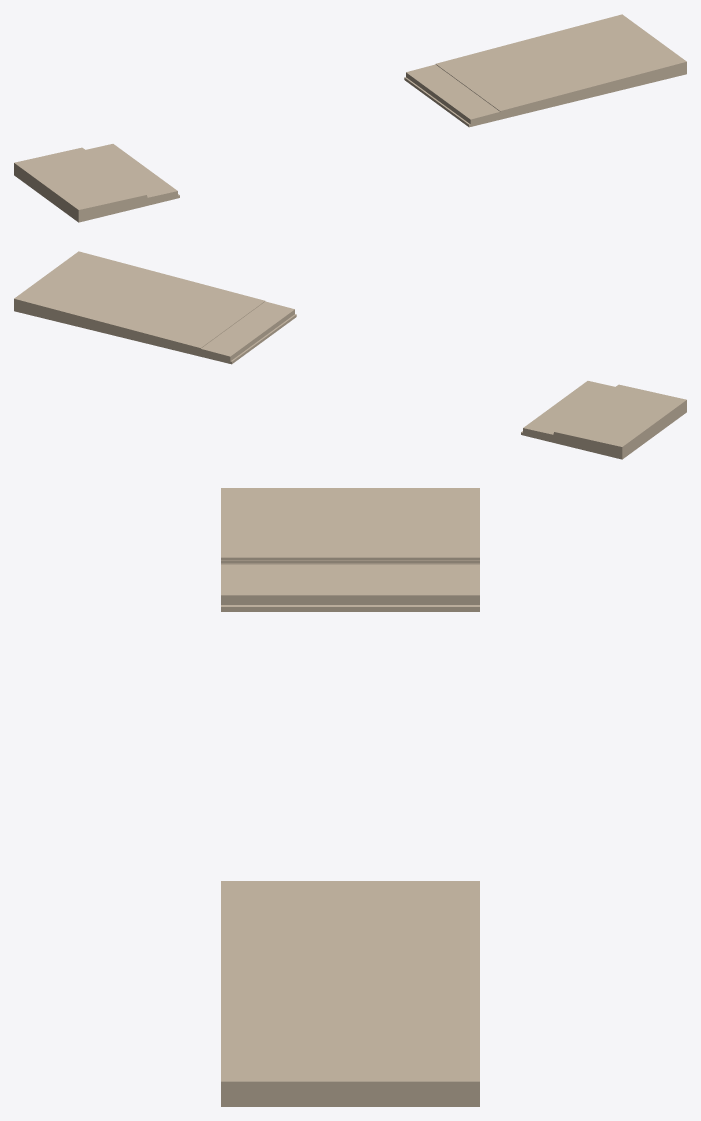
The model's file is radiator_pitch_shims.glb.
3 renders of one model, top to bottom at view 1: azimuth 30°, elevation 25°; view 2: azimuth 150°, elevation 25°; view 3: azimuth 270°, elevation 25°, orthographic. The views are drawn at different scales.
Parts seen in each view (by area): view 1: Shim_10_minus1_supply, Shim_8_1_far, Shim_10_1_far, Shim_9_1_far, Shim_7_1_far, Shim_7_minus1_supply, Shim_7_0.35_far, Shim_9_minus1_supply, Shim_10_0.35_far; view 2: Shim_10_minus1_supply, Shim_10_1_far, Shim_8_1_far, Shim_9_1_far, Shim_7_1_far, Shim_7_minus1_supply, Shim_7_0.35_far, Shim_8_minus1_supply; view 3: Shim_10_1_far, Shim_10_minus1_supply, Shim_8_1_far, Shim_9_1_far, Shim_7_minus1_supply, Shim_7_1_far, Shim_7_minus0.35_supply.
Boxes of the visible parts, left/top/right/bottom form: Shim_10_minus1_supply: left=14, top=147, right=146, bottom=222; Shim_8_1_far: left=435, top=45, right=568, bottom=119; Shim_10_1_far: left=555, top=14, right=686, bottom=86; Shim_9_1_far: left=496, top=30, right=621, bottom=102; Shim_7_1_far: left=406, top=64, right=500, bottom=126; Shim_7_minus1_supply: left=86, top=144, right=177, bottom=214; Shim_7_0.35_far: left=404, top=77, right=537, bottom=127; Shim_9_minus1_supply: left=79, top=196, right=147, bottom=222; Shim_10_0.35_far: left=617, top=70, right=685, bottom=90; Shim_10_minus1_supply: left=554, top=384, right=686, bottom=459; Shim_10_1_far: left=14, top=251, right=146, bottom=321; Shim_8_1_far: left=132, top=283, right=265, bottom=348; Shim_9_1_far: left=73, top=267, right=204, bottom=339; Shim_7_1_far: left=162, top=301, right=294, bottom=363; Shim_7_minus1_supply: left=523, top=381, right=614, bottom=451; Shim_7_0.35_far: left=163, top=314, right=296, bottom=364; Shim_8_minus1_supply: left=553, top=434, right=621, bottom=459; Shim_10_1_far: left=221, top=1018, right=479, bottom=1106; Shim_10_minus1_supply: left=221, top=488, right=479, bottom=559; Shim_8_1_far: left=221, top=907, right=479, bottom=970; Shim_9_1_far: left=221, top=971, right=479, bottom=1017; Shim_7_minus1_supply: left=221, top=564, right=479, bottom=604; Shim_7_1_far: left=221, top=881, right=479, bottom=907; Shim_7_minus0.35_supply: left=221, top=605, right=479, bottom=611.
Size of the model in its own units: 0.9444 by 0.0186 by 0.174.
